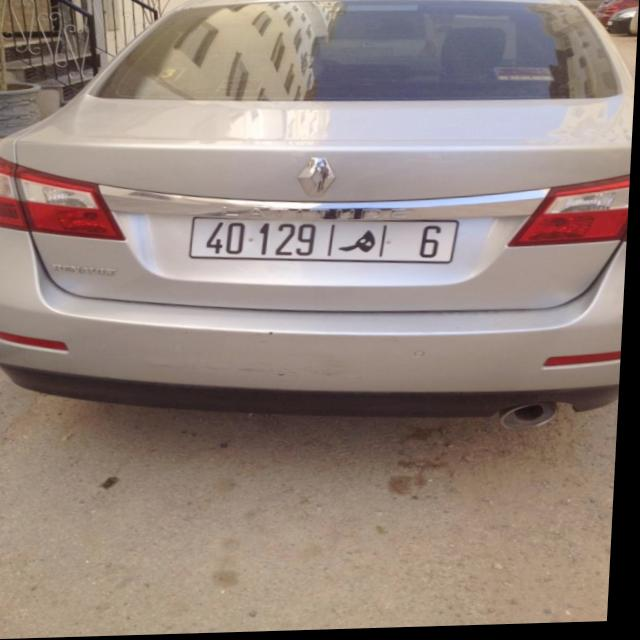License-Plate: (193, 219, 460, 266)
